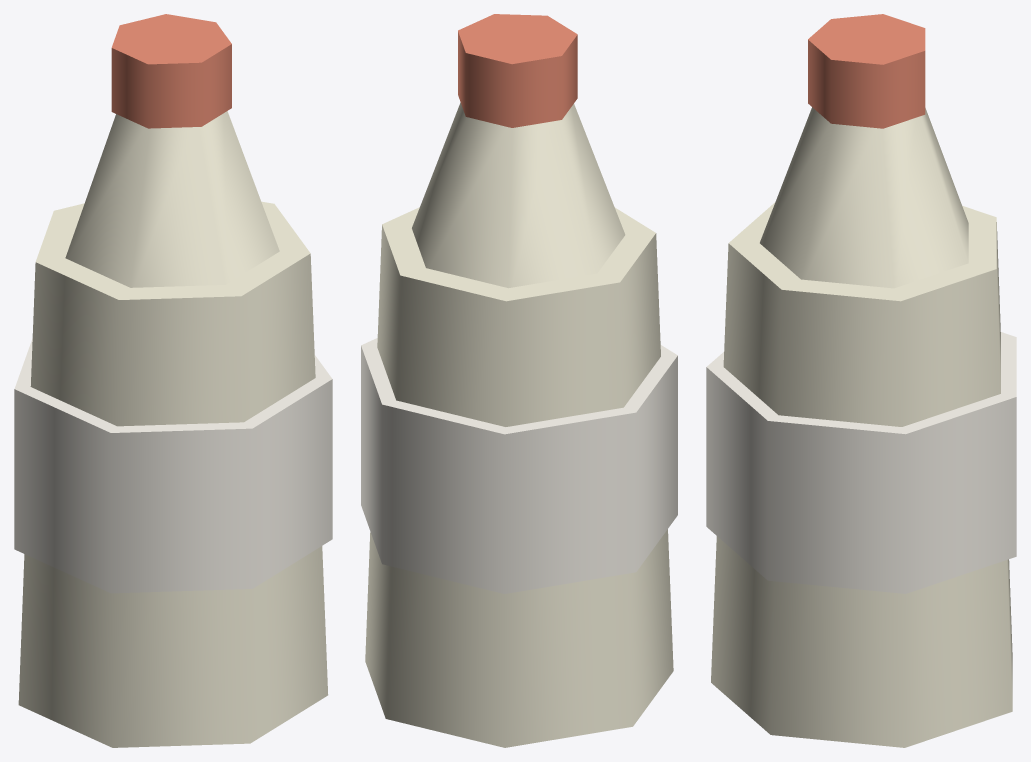
The model's file is mayo.glb.
The picture shows the model from 3 angles, left to right: view 1: azimuth 30°, elevation 25°; view 2: azimuth 150°, elevation 25°; view 3: azimuth 270°, elevation 25°; orthographic projection.
Visible parts, largest first — view 1: mayo; view 2: mayo; view 3: mayo.
Part boxes in pixels (x1,y1,x2,y2): mayo: (14, 14, 332, 747); mayo: (361, 14, 677, 747); mayo: (706, 14, 1016, 747).
Bounding box in the file's own units: 0.3607 × 0.805 × 0.3517.
